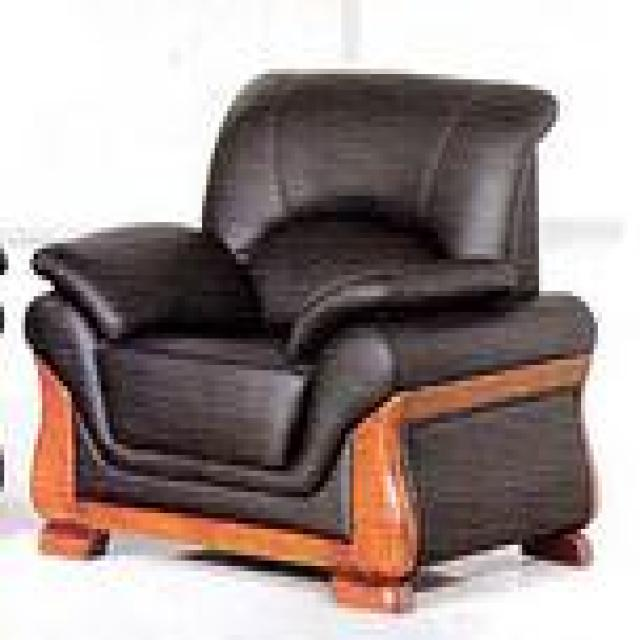sofa: (21, 65, 598, 624)
